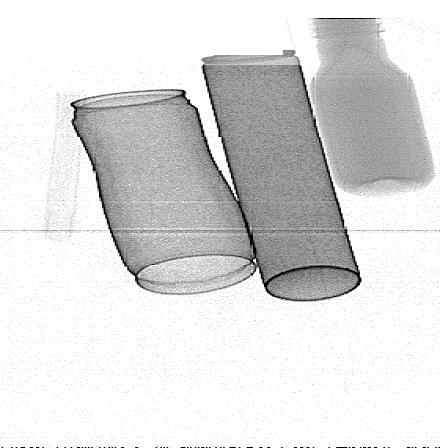Sprayer: (191, 16, 361, 303)
